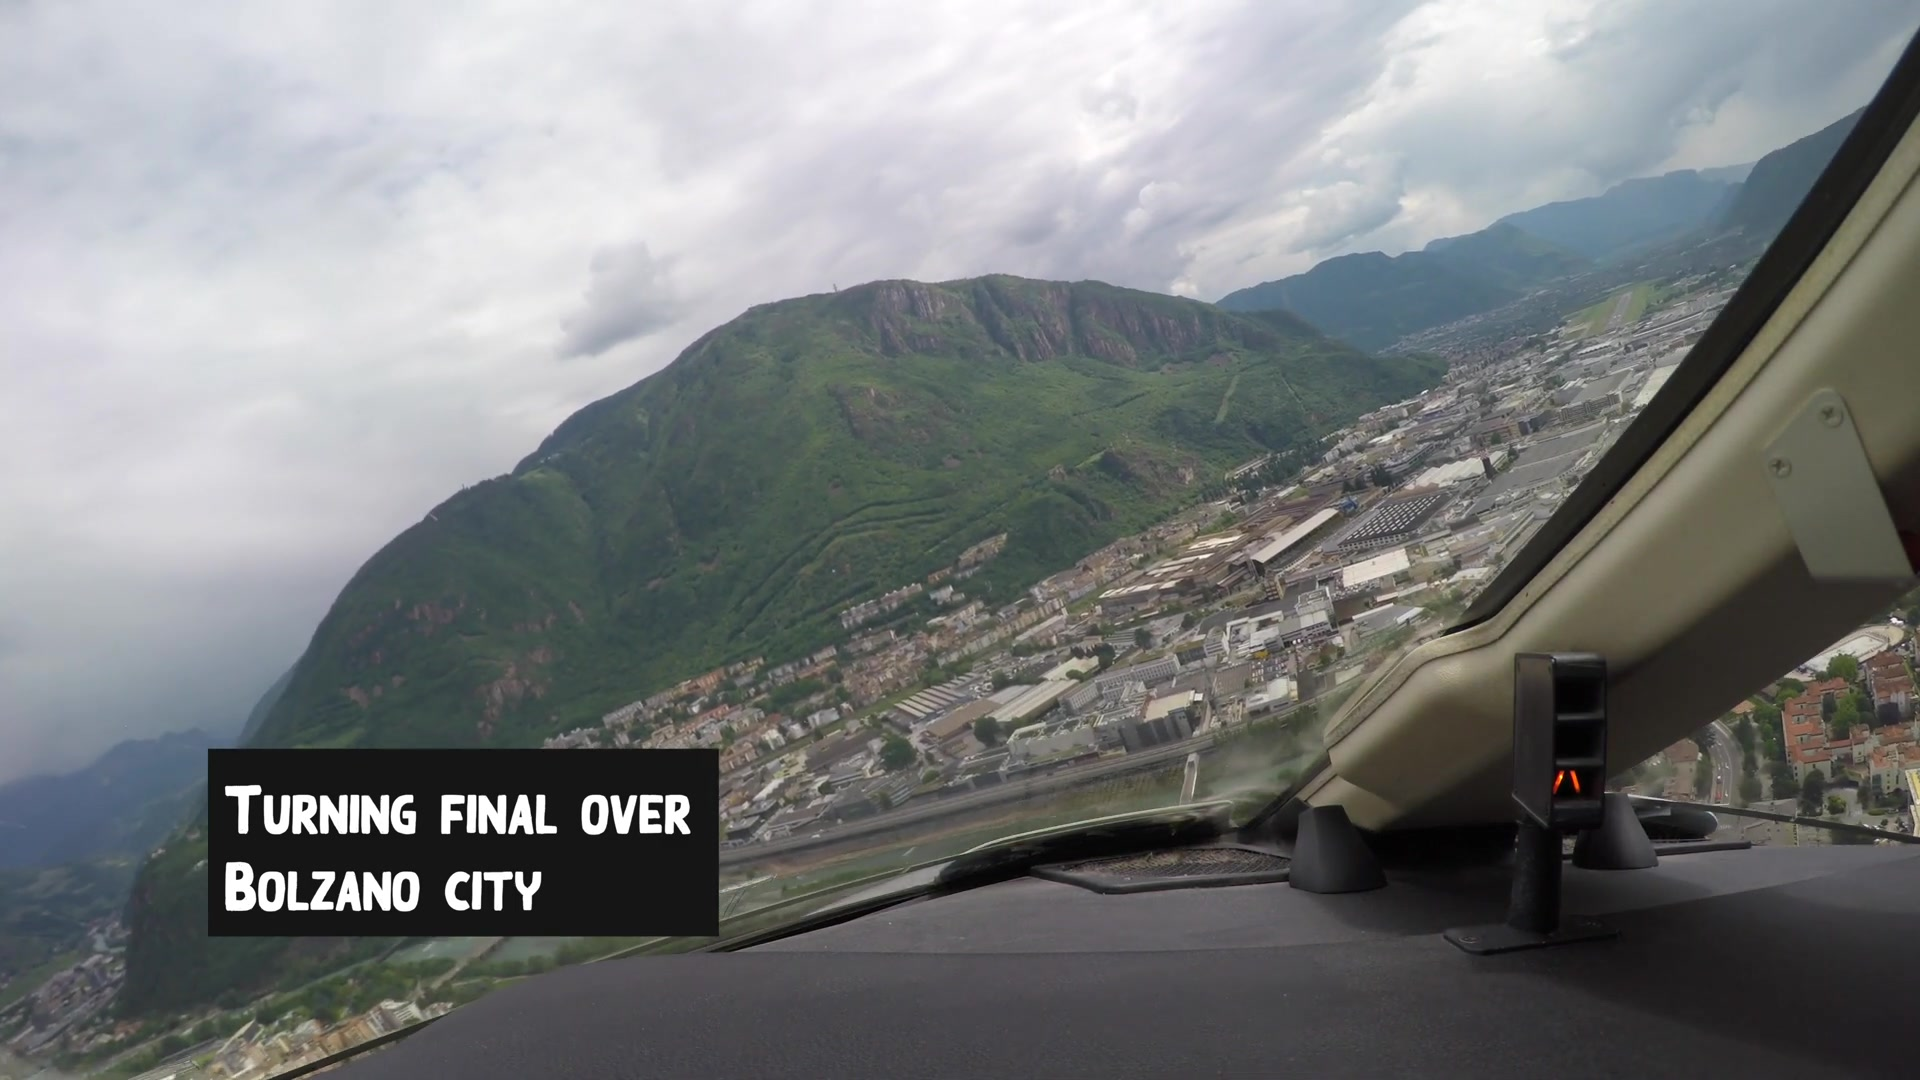runway: (1606, 293, 1633, 326)
